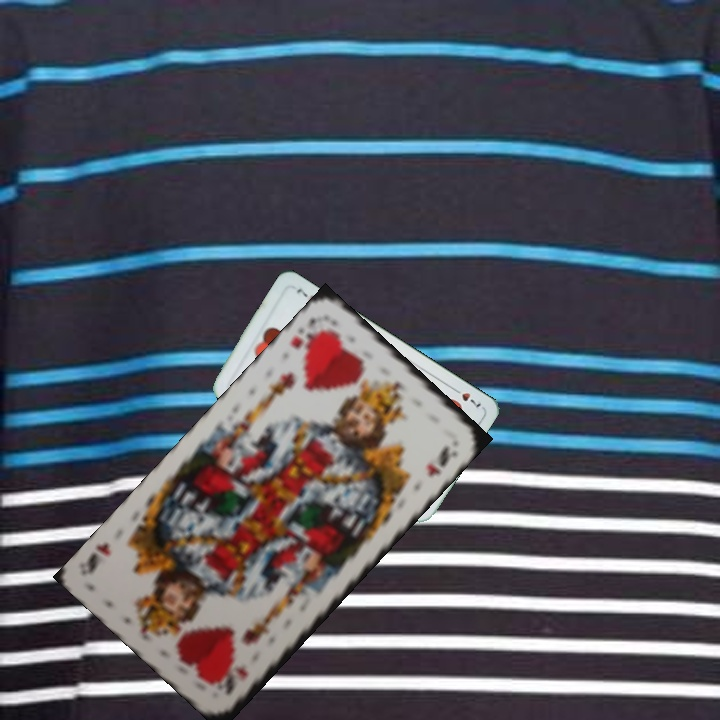H7: (448, 383, 484, 411)
HK: (286, 313, 324, 351), (221, 663, 252, 698)
